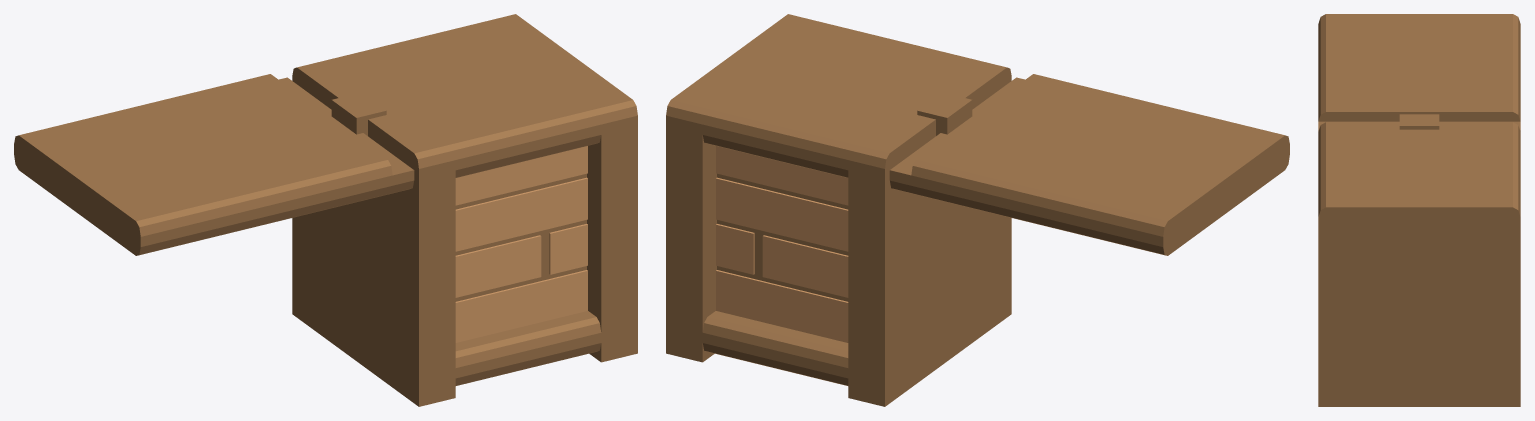
File: Counter_Door.fbx
3 views of the same model, side by side, from view 1: azimuth 30°, elevation 25°; view 2: azimuth 150°, elevation 25°; view 3: azimuth 270°, elevation 25° (orthographic). The views are drawn at different scales.
Parts seen in each view (by area): view 1: Environment_Counter_Door; view 2: Environment_Counter_Door; view 3: Environment_Counter_Door.
Boxes of the visible parts, <box> form: Environment_Counter_Door: <box>14,14,637,406</box>; Environment_Counter_Door: <box>666,14,1289,406</box>; Environment_Counter_Door: <box>1318,14,1520,406</box>.
Bounding box in the file's own units: 400 × 196 × 177.
